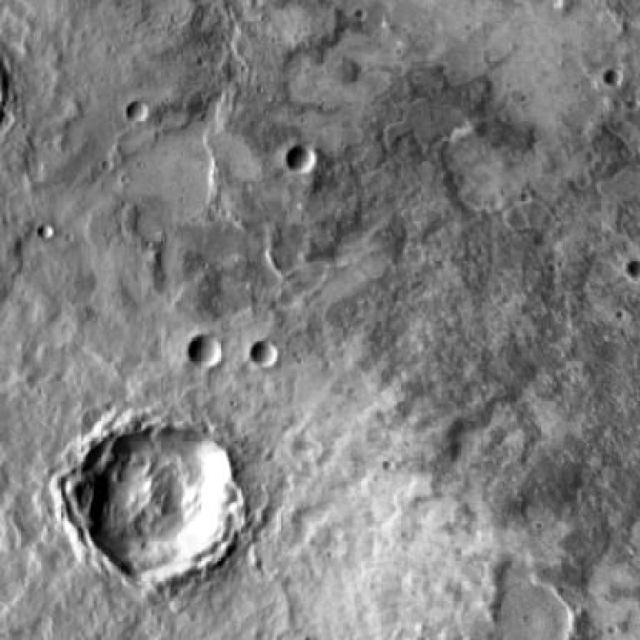crater: (75, 418, 242, 582), (501, 578, 587, 640), (185, 336, 221, 370), (286, 142, 316, 170), (252, 342, 279, 368), (124, 97, 148, 118), (604, 65, 622, 84), (37, 222, 54, 238)
